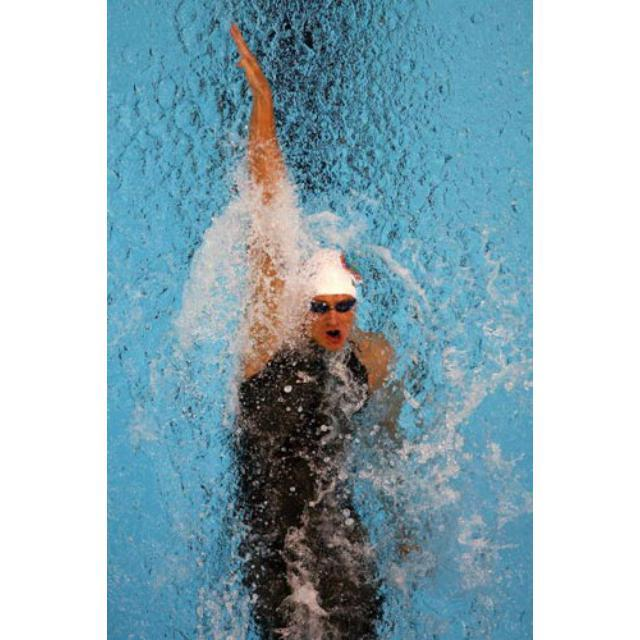human: (227, 18, 413, 638)
